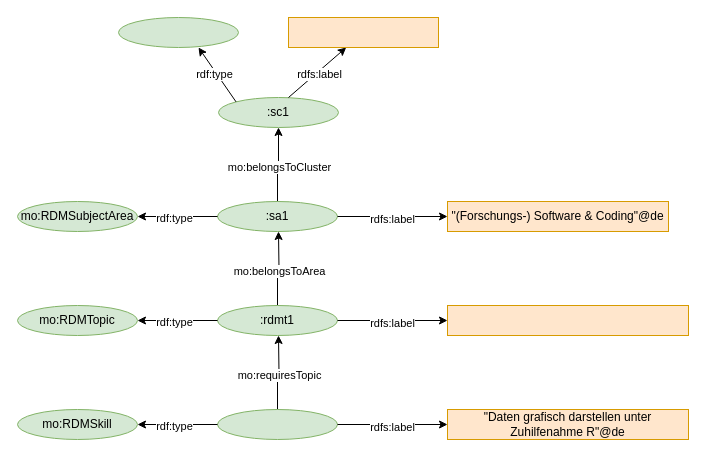
This 706x457 diagram has some shape labels left out. The shapes that lost their labels are listed below. From the top down, each one's box as (x1, y1, x2, y2) in pixels, then its label:
(118, 16, 238, 48): mo:SubjectCluster
(288, 16, 438, 48): "Arbeiten mit Daten"@de
(446, 304, 688, 336): "Grundkenntnisse der Programmierung"@de
(216, 408, 338, 440): :rdmsk1
